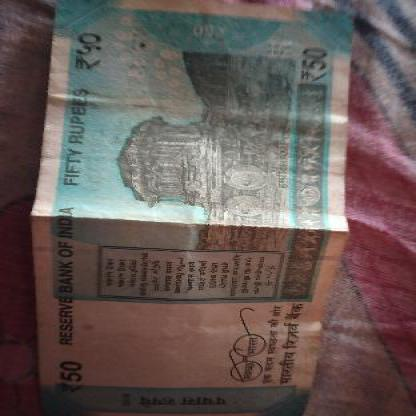New50Back: (31, 1, 350, 415)
